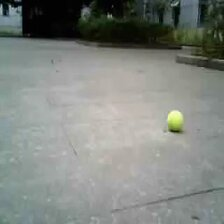tennis: (168, 111, 184, 131)
